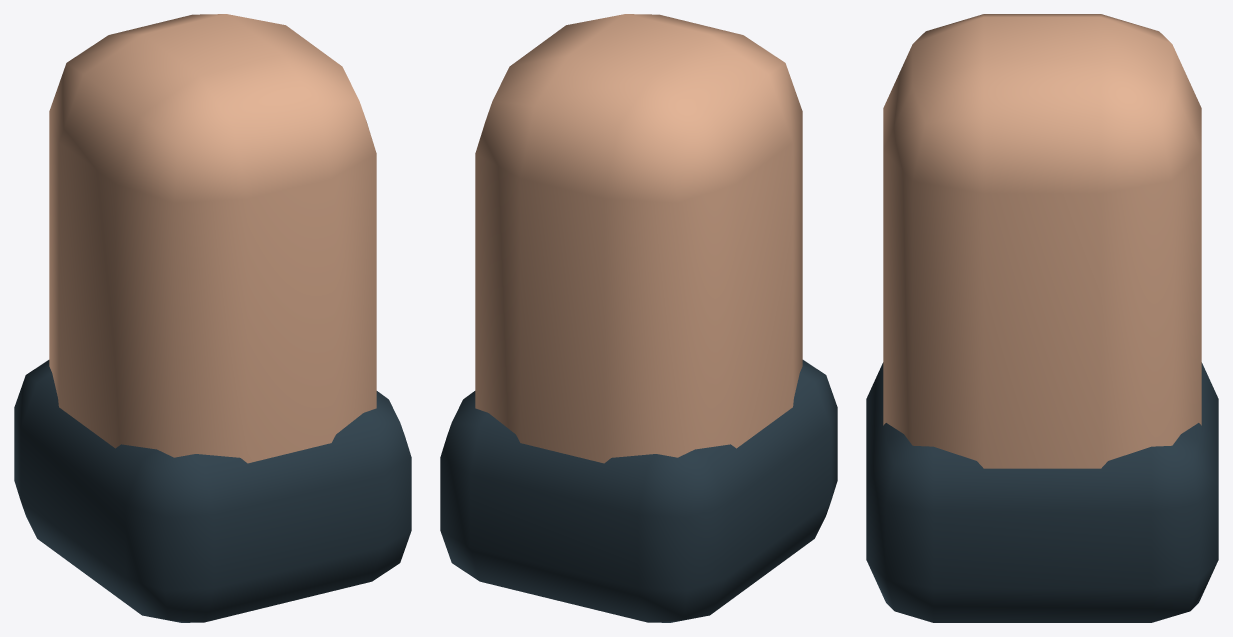
Rendered from rider_forearm.glb.
3 views of the same model, side by side, from view 1: azimuth 30°, elevation 25°; view 2: azimuth 150°, elevation 25°; view 3: azimuth 270°, elevation 25° (orthographic). The views are drawn at different scales.
Visible parts, largest first — view 1: Gloved forearm, Wrist guard; view 2: Gloved forearm, Wrist guard; view 3: Gloved forearm, Wrist guard.
Part boxes in pixels (box(x1,y1,x2,y2)): Gloved forearm: box(49, 14, 376, 463); Wrist guard: box(14, 360, 411, 622); Gloved forearm: box(475, 14, 802, 463); Wrist guard: box(440, 360, 837, 622); Gloved forearm: box(883, 14, 1201, 468); Wrist guard: box(866, 362, 1218, 622).
Size of the model in its own units: 0.2 by 0.355 by 0.21.
